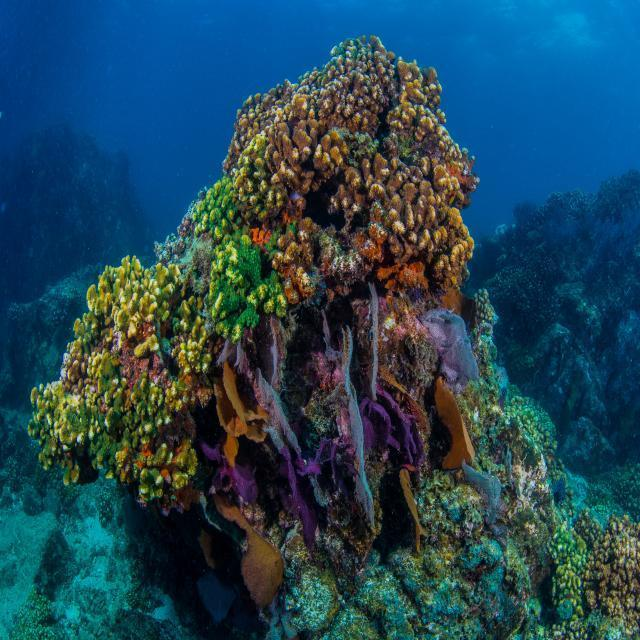Healthy Coral: (230, 32, 488, 296), (187, 180, 283, 334), (73, 240, 185, 366), (115, 368, 208, 504), (27, 378, 110, 494)
